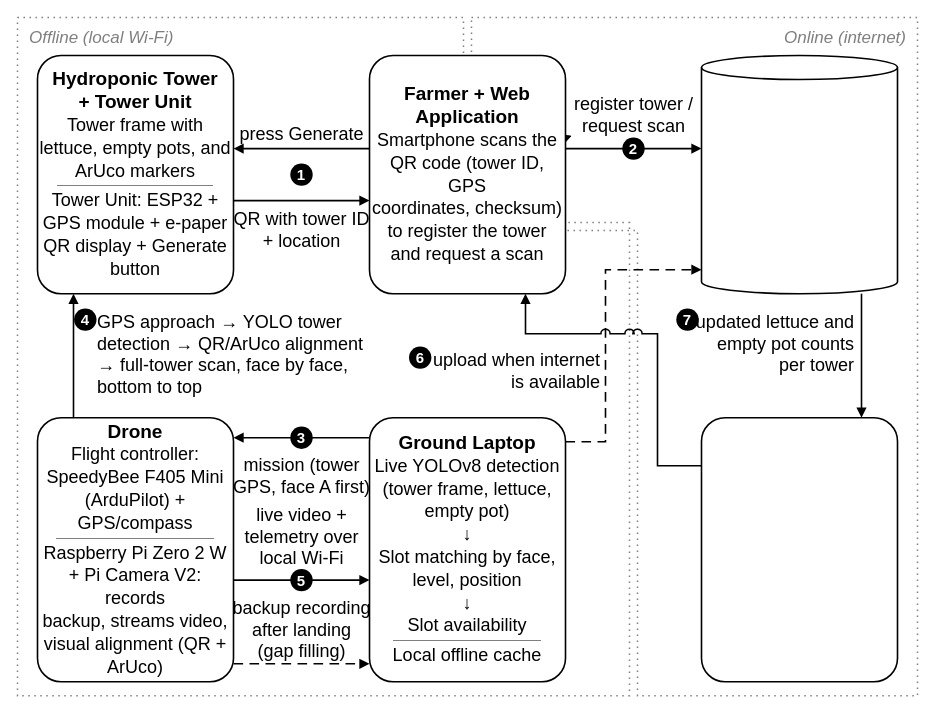
Image size: 937x715. Some labels were removed from this diagram. The centre of each missing label's shape, as x and y in pixels:
Database (Supabase) Stores towers, locations, scan missions, and results: the point at 799,174
Web Dashboard Tower map, per-pot results, scan history, upload (Sync Center): the point at 799,549
